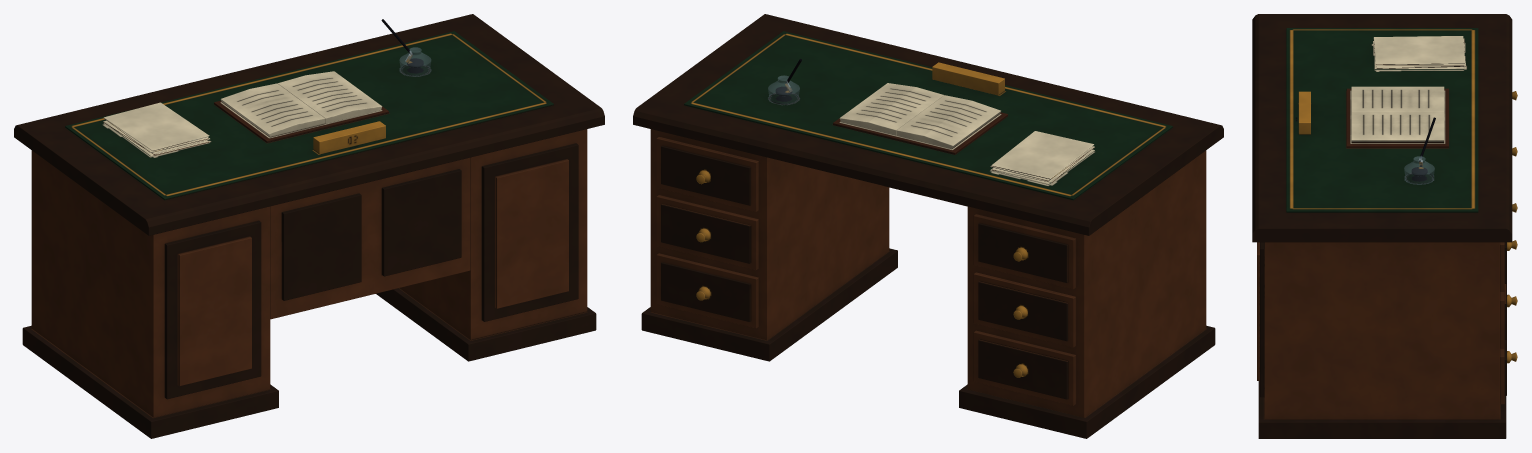
Rendered from office_desk.glb.
3 renders of one model, left to right at view 1: azimuth 30°, elevation 25°; view 2: azimuth 150°, elevation 25°; view 3: azimuth 270°, elevation 25°, orthographic. The views are drawn at different scales.
Visible parts, largest first — view 1: office_desk; view 2: office_desk; view 3: office_desk.
Boxes of the visible parts, bbox=[...] form: office_desk: bbox=[14, 14, 604, 438]; office_desk: bbox=[633, 14, 1223, 438]; office_desk: bbox=[1252, 14, 1517, 438].
Size of the model in its own units: 1.64 by 0.9418 by 0.857.
Materials: 1 (1 with a texture image).
